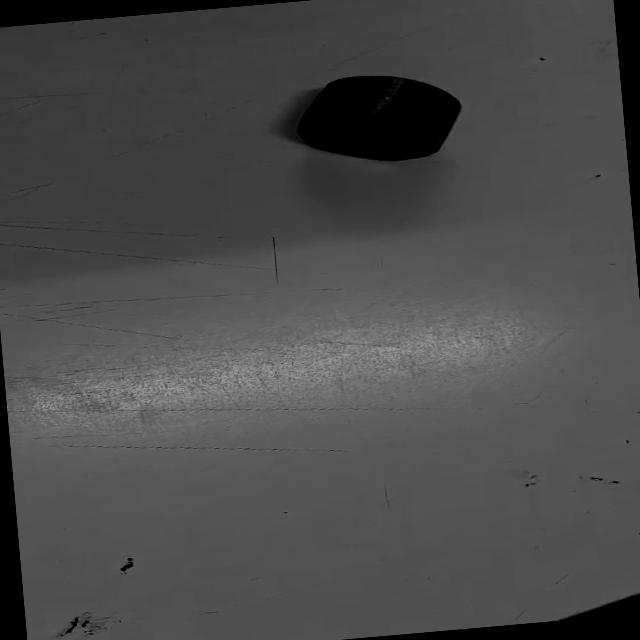rcircle: (297, 75, 461, 160)
